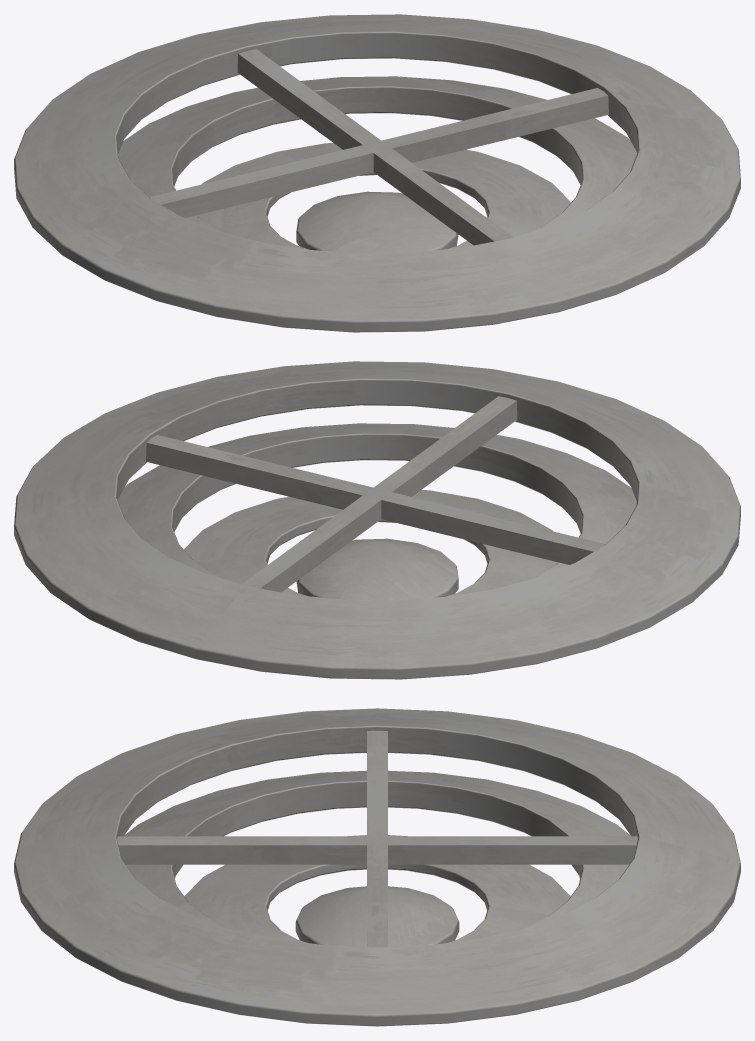
The model's file is SM_AirDuct_Cap_01a.fbx.
The picture shows the model from 3 angles, top to bottom: view 1: azimuth 30°, elevation 25°; view 2: azimuth 150°, elevation 25°; view 3: azimuth 270°, elevation 25°; orthographic projection.
Parts seen in each view (by area): view 1: SM_AirDuct_Cap_01a_LOD0; view 2: SM_AirDuct_Cap_01a_LOD0; view 3: SM_AirDuct_Cap_01a_LOD0.
Boxes of the visible parts, x1=… form: SM_AirDuct_Cap_01a_LOD0: x1=14, y1=14, x2=740, y2=332; SM_AirDuct_Cap_01a_LOD0: x1=14, y1=361, x2=740, y2=679; SM_AirDuct_Cap_01a_LOD0: x1=14, y1=708, x2=740, y2=1026.
Size of the model in its own units: 53.23 by 53.23 by 7.88.
